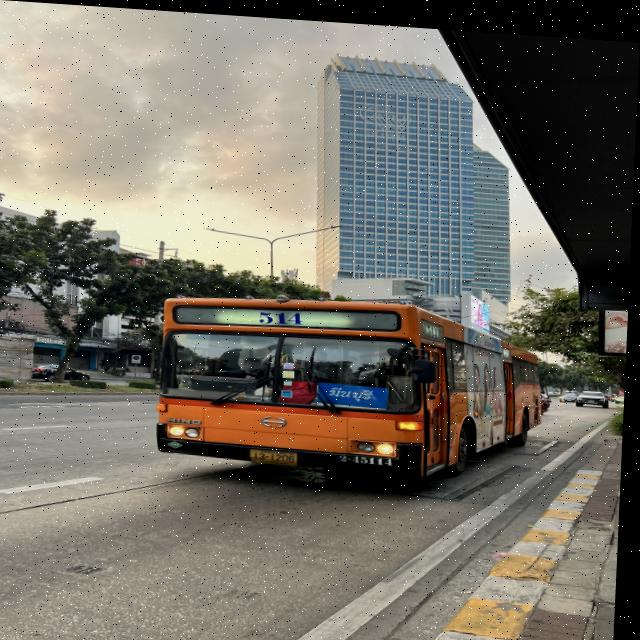BMTA-bus: (149, 281, 551, 484)
Bus-Line-Number: (257, 305, 310, 323), (425, 315, 445, 335)
Destination-Sign-Normal: (318, 378, 393, 404)
